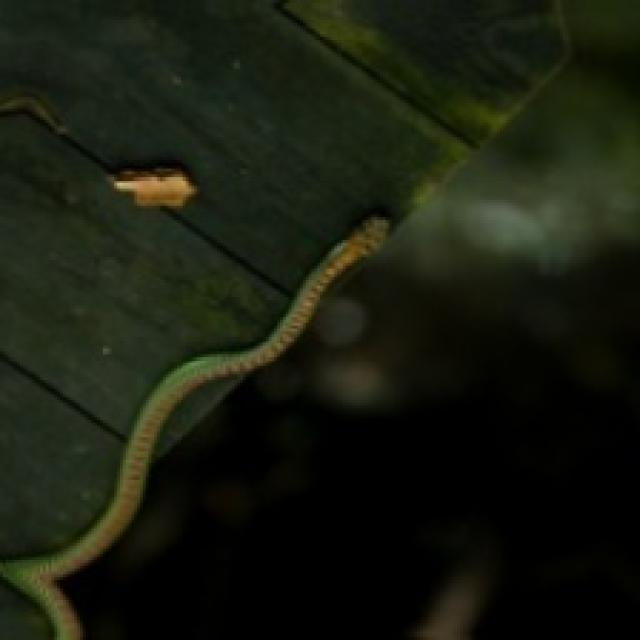paradise tree snake: (0, 217, 389, 637)
